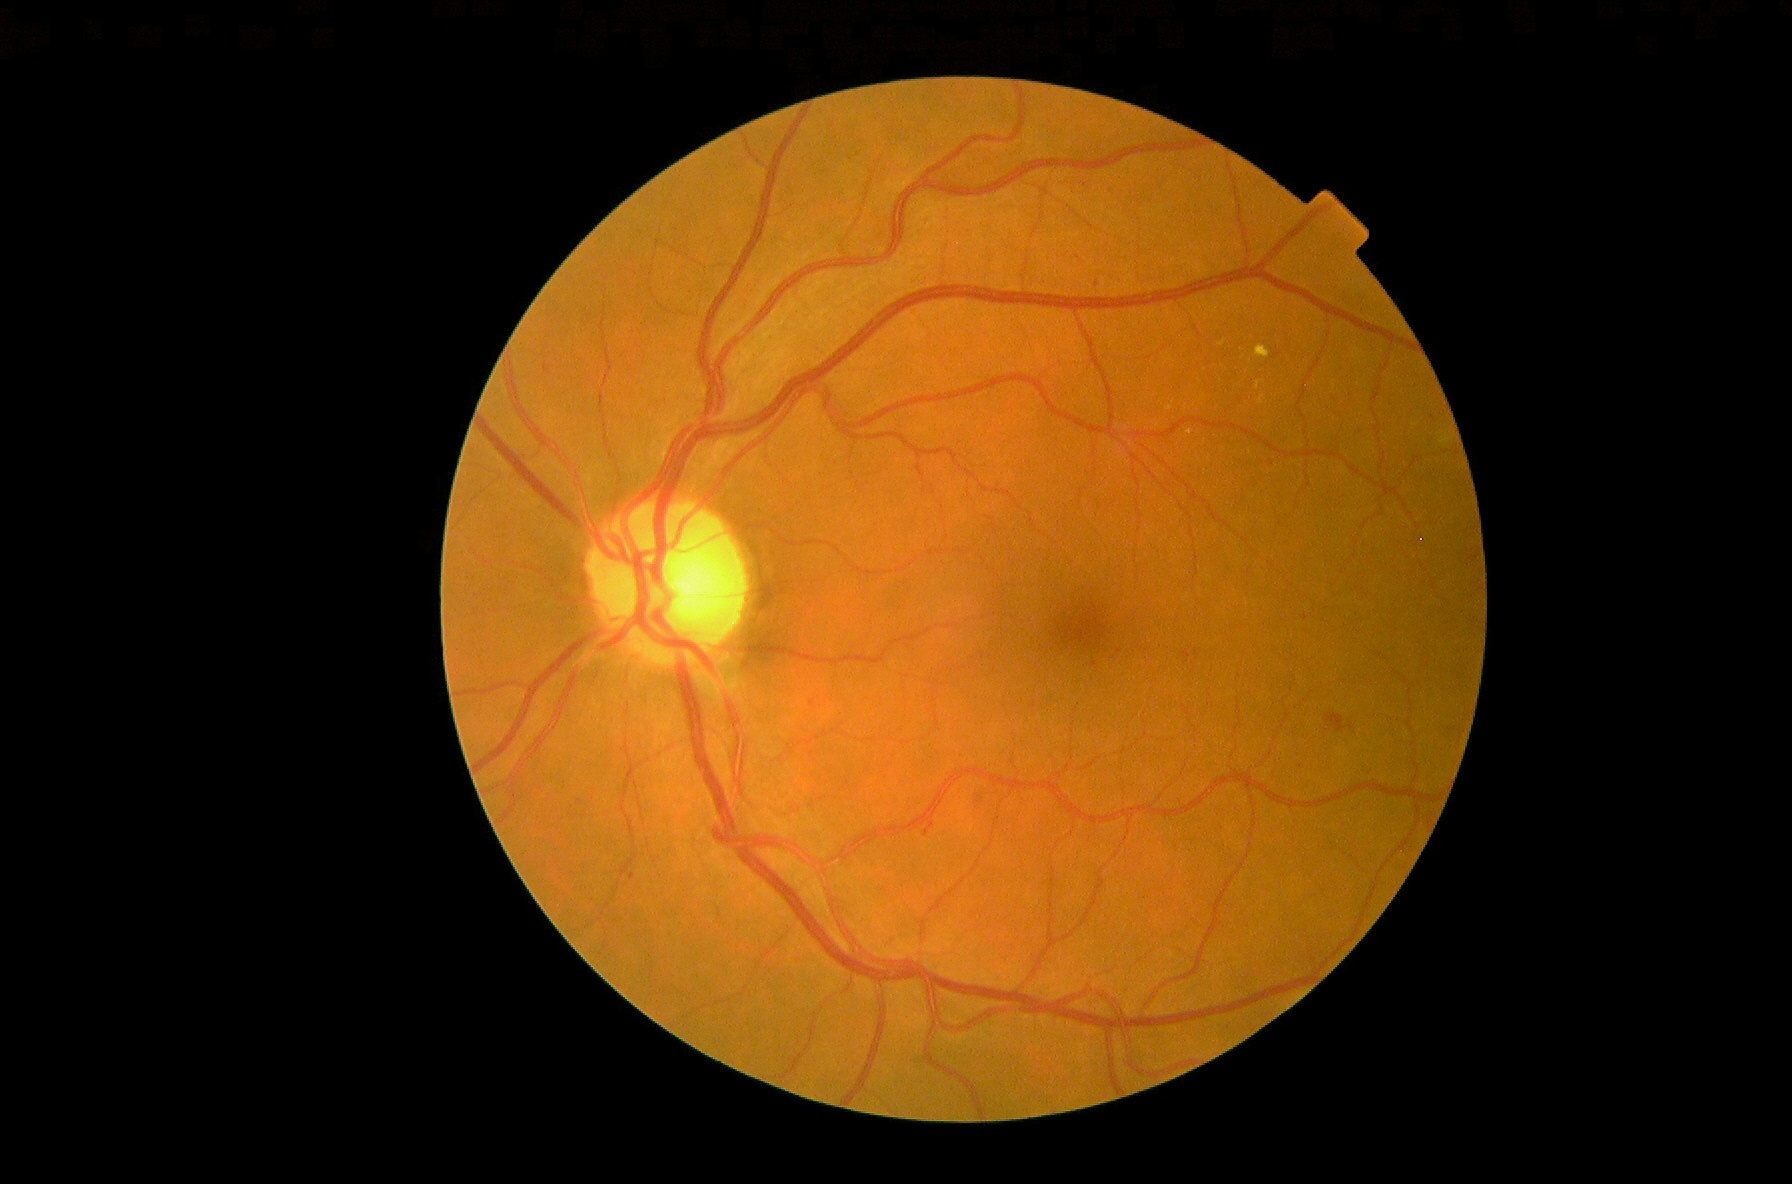Fovea: (1004, 572, 1147, 698)
OD: (574, 480, 760, 681)
